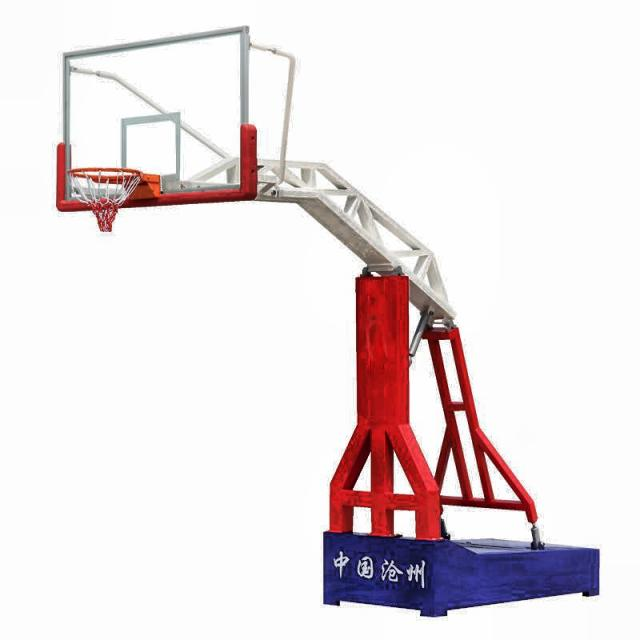rim: (69, 166, 141, 233)
